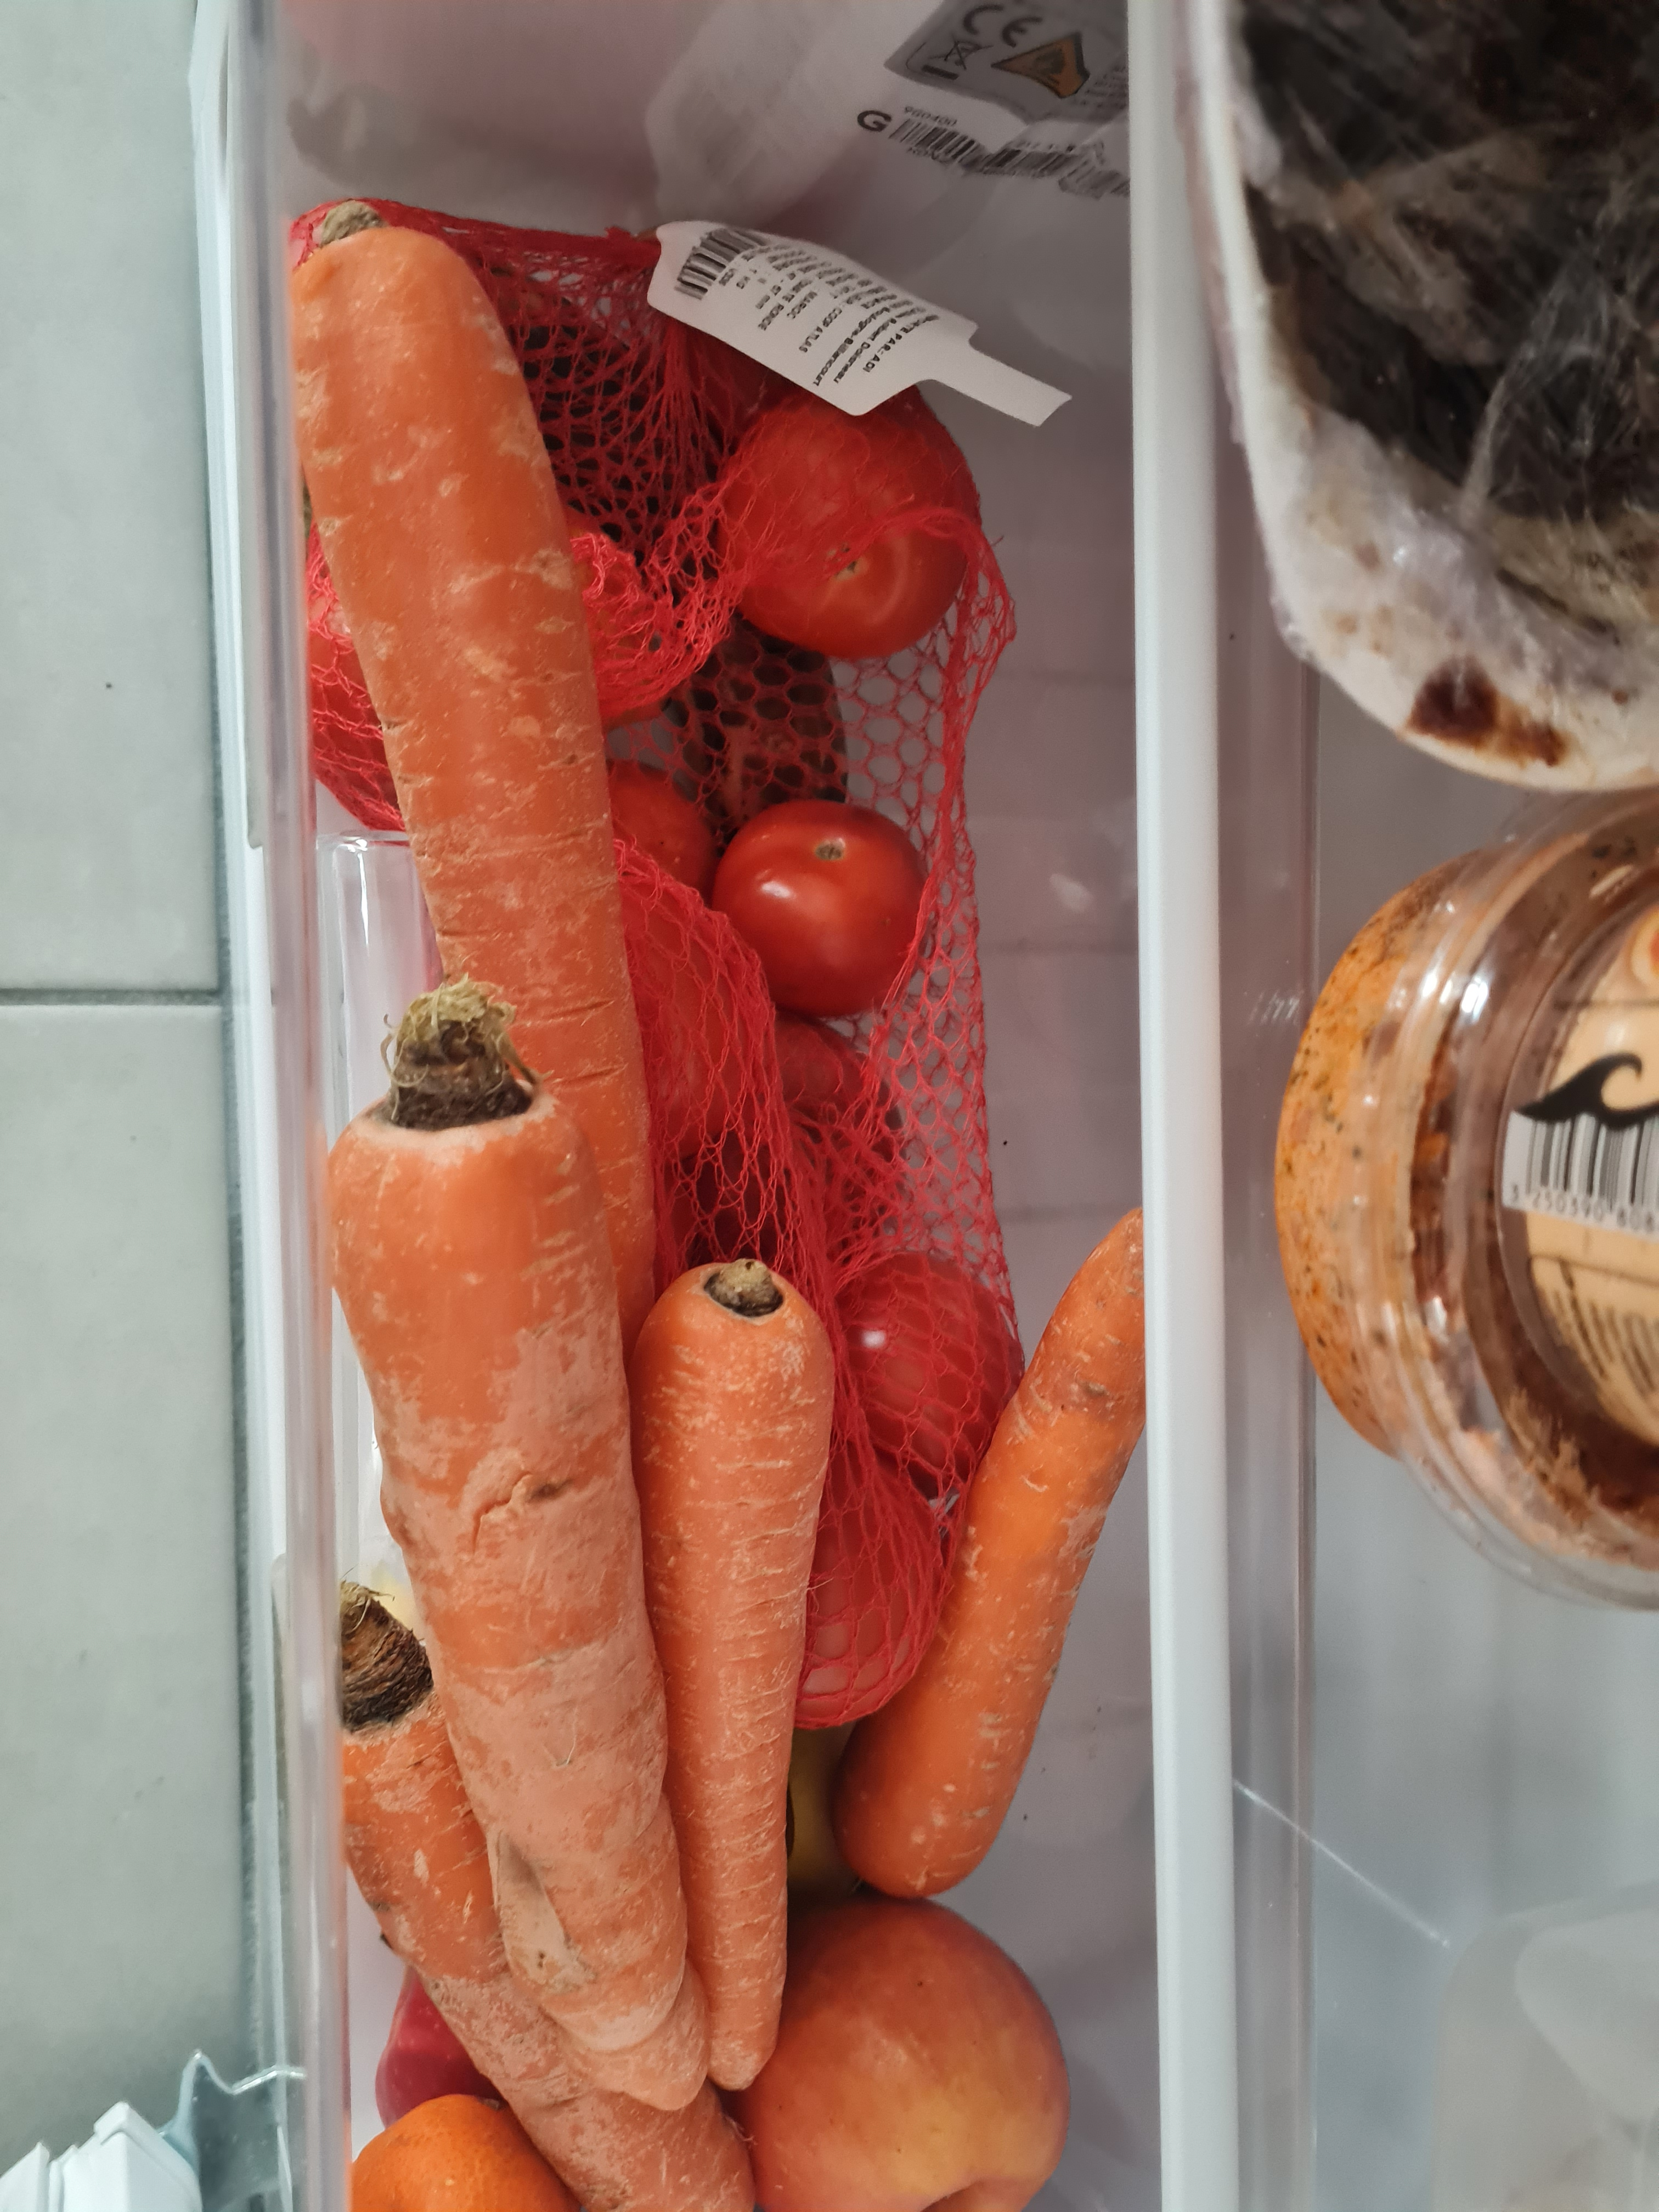apple: (748, 1912, 1065, 2207)
carrot: (286, 199, 667, 1334), (329, 1008, 695, 2045), (331, 1580, 763, 2210), (843, 1214, 1148, 1898), (631, 1247, 836, 2101)
tomato: (727, 402, 965, 655), (714, 803, 924, 1017), (854, 1251, 1021, 1472), (798, 1458, 938, 1721), (601, 754, 711, 899)
